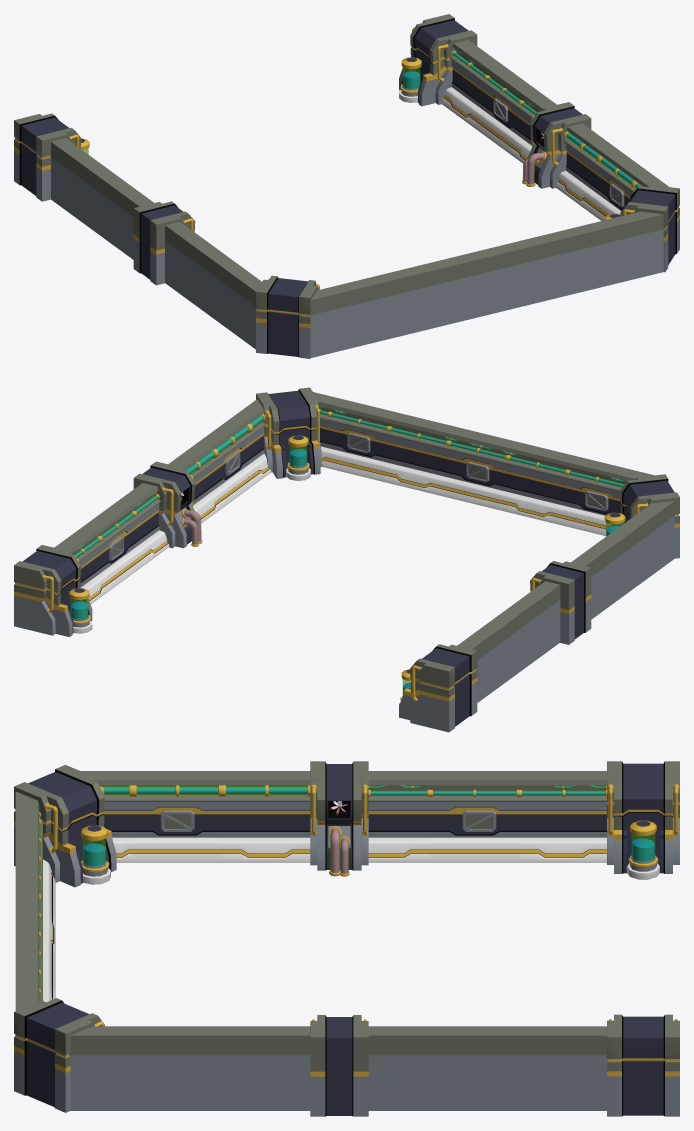
Rendered from Level22.fbx.
3 views of the same model, one above another, from view 1: azimuth 30°, elevation 25°; view 2: azimuth 150°, elevation 25°; view 3: azimuth 270°, elevation 25° (orthographic). The views are drawn at different scales.
Visible parts, largest first — view 1: Base (×24), Bottle; view 2: Base (×24), Bottle (×2); view 3: Base (×23), Bottle (×2), Pipe1 (×3), Cage (×2), Pipe2, Pipe3.
Part boxes in pixels (bbox=[...]): Base (×24): bbox=[14, 14, 679, 358]; Bottle: bbox=[399, 57, 421, 102]; Base (×24): bbox=[14, 387, 679, 732]; Bottle (×2): bbox=[69, 435, 310, 633]; Base (×23): bbox=[14, 761, 679, 1116]; Bottle (×2): bbox=[81, 820, 659, 884]; Pipe1 (×3): bbox=[133, 785, 341, 876]; Cage (×2): bbox=[160, 810, 496, 831]; Pipe2: bbox=[430, 789, 519, 796]; Pipe3: bbox=[520, 789, 606, 796].
Size of the model in its own units: 537 by 73.12 by 547.
